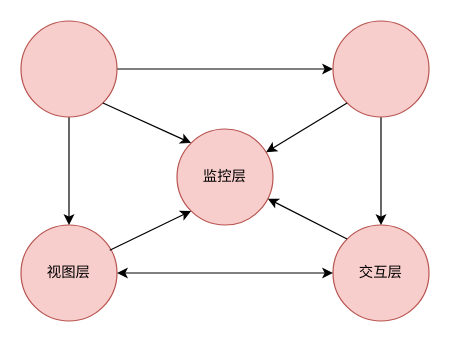
The diagram is 450 pixels wide and 342 high, and some of its shapes have lost their labels. The shapes that lost their labels are listed below. From the top down, each one's box as (x1, y1, x2, y2) in pixels, then its label:
(20, 20, 117, 117): 网络层
(332, 20, 429, 117): 数据层
